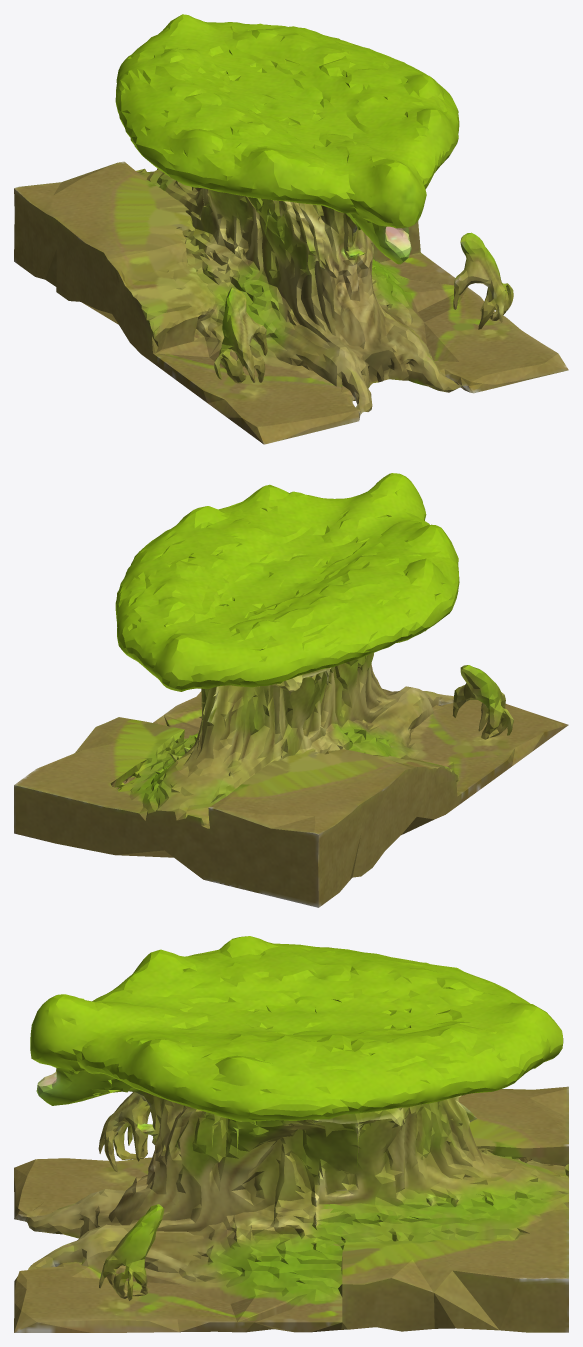
The model's file is forest_treant.glb.
The picture shows the model from 3 angles, top to bottom: view 1: azimuth 30°, elevation 25°; view 2: azimuth 150°, elevation 25°; view 3: azimuth 270°, elevation 25°; orthographic projection. The views are drawn at different scales.
Parts seen in each view (by area): view 1: forest_treant; view 2: forest_treant; view 3: forest_treant.
Part boxes in pixels (x1,y1,x2,y2): forest_treant: (14,14,568,444); forest_treant: (14,473,568,907); forest_treant: (14,936,568,1332).
Size of the model in its own units: 1.32 by 0.9545 by 1.88.
1 material, 1 textured.
